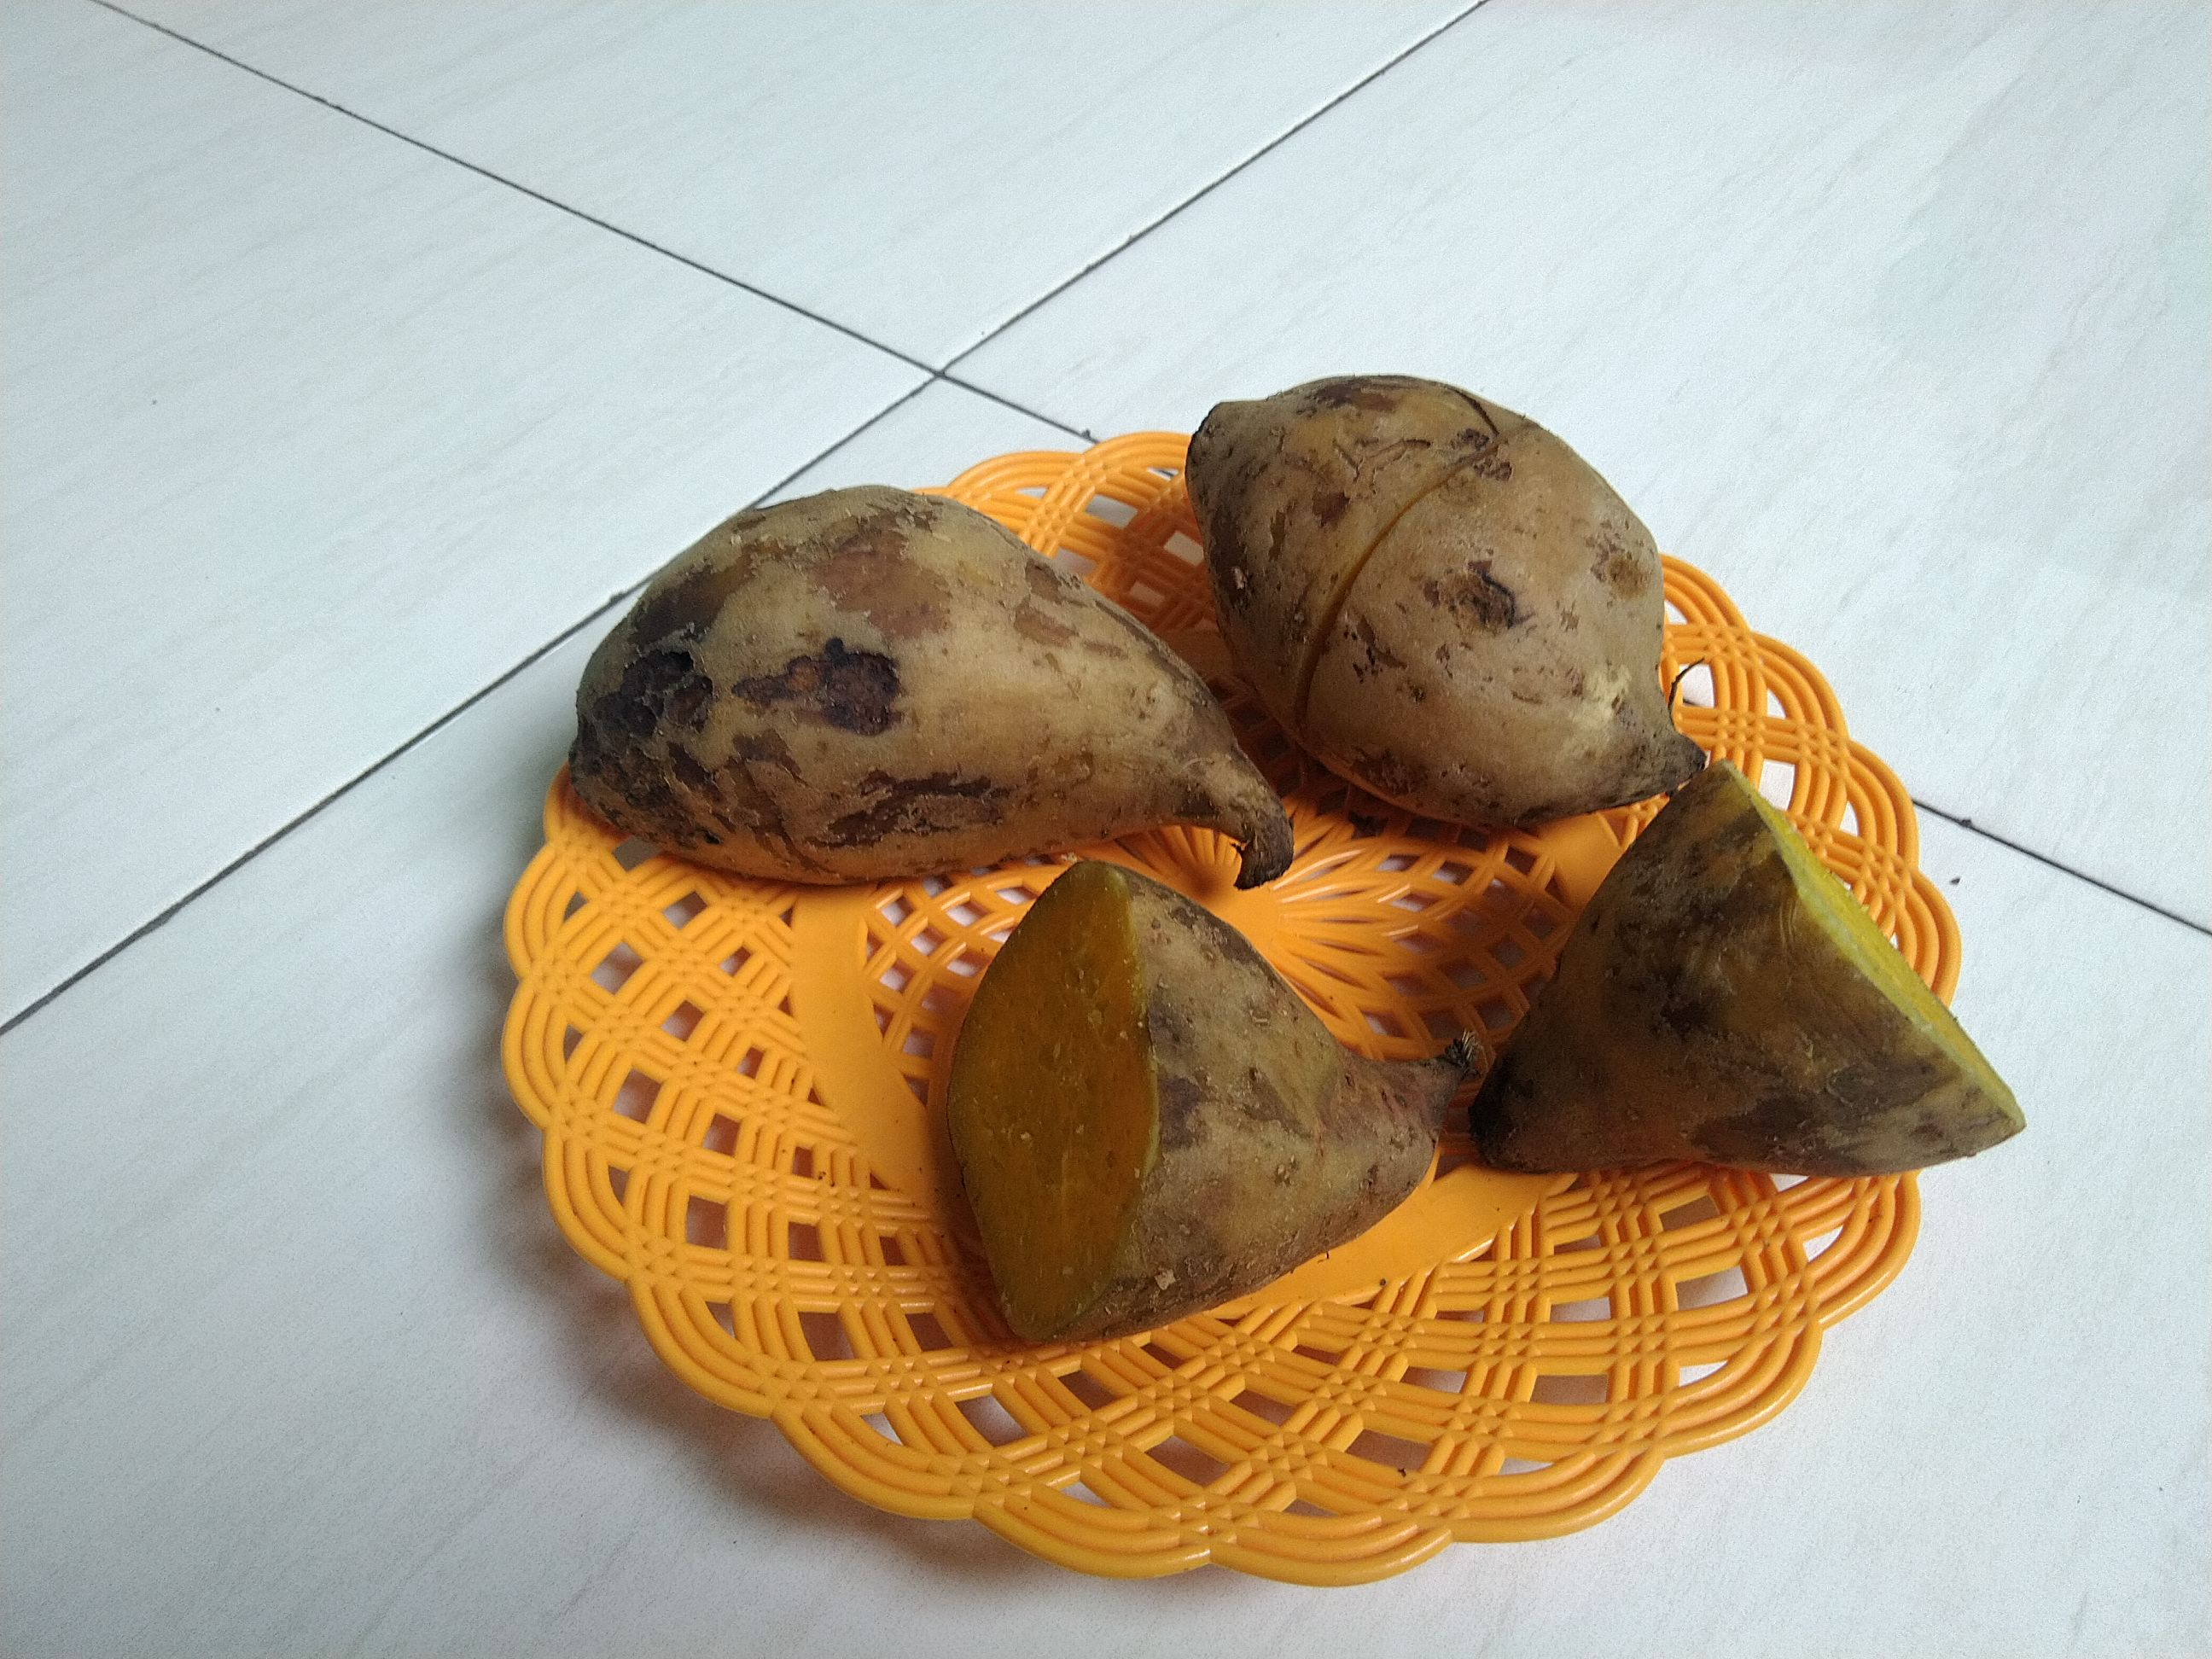ubi kuning: (573, 460, 1334, 911), (1158, 357, 1745, 871), (1472, 746, 2052, 1229), (935, 856, 1480, 1358)
